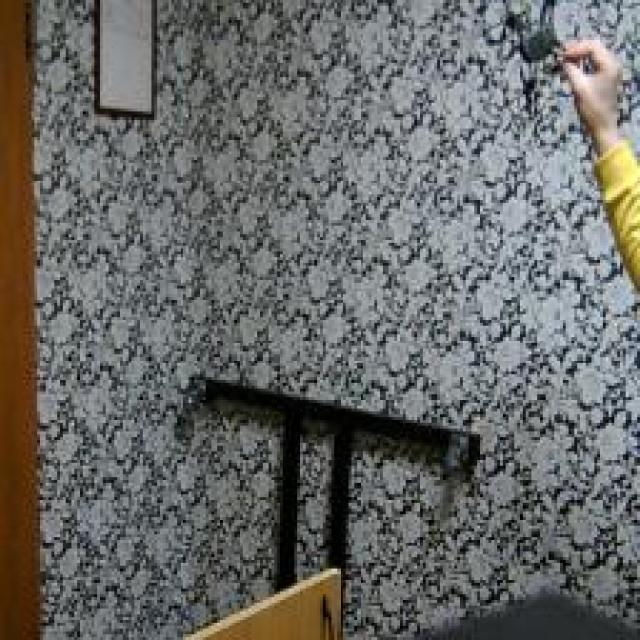drone: (463, 0, 608, 123)
